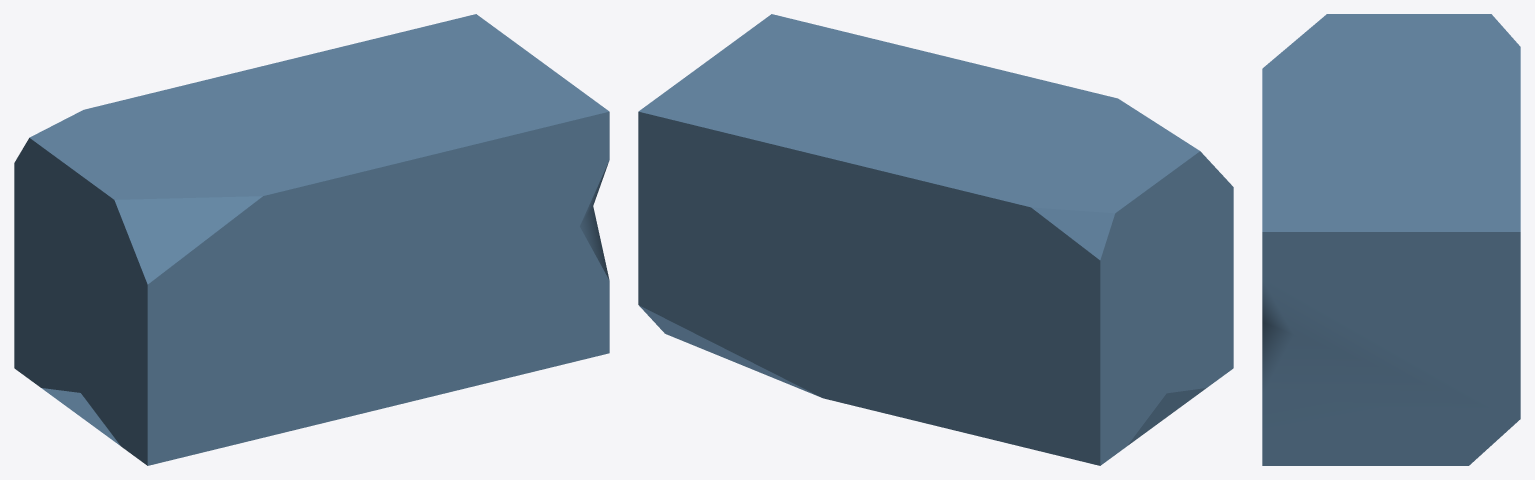
File: Mesh_PiedraGrande_v01.fbx
3 renders of one model, left to right at view 1: azimuth 30°, elevation 25°; view 2: azimuth 150°, elevation 25°; view 3: azimuth 270°, elevation 25°, orthographic. The views are drawn at different scales.
Parts seen in each view (by area): view 1: Mesh_PiedraGrande_v01; view 2: Mesh_PiedraGrande_v01; view 3: Mesh_PiedraGrande_v01.
Part boxes in pixels (x1,y1,x2,y2): Mesh_PiedraGrande_v01: [14, 14, 609, 465]; Mesh_PiedraGrande_v01: [638, 14, 1233, 465]; Mesh_PiedraGrande_v01: [1262, 14, 1520, 465].
Bounding box in the file's own units: 4 × 2 × 2.
